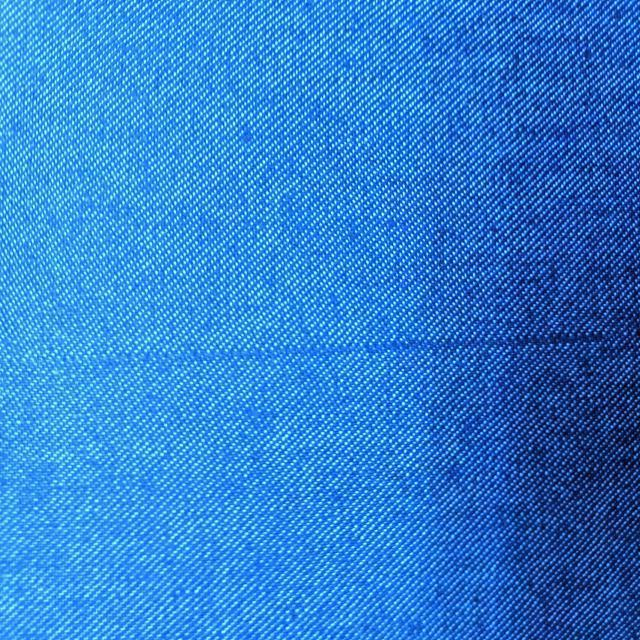Line: (62, 328, 600, 372)
